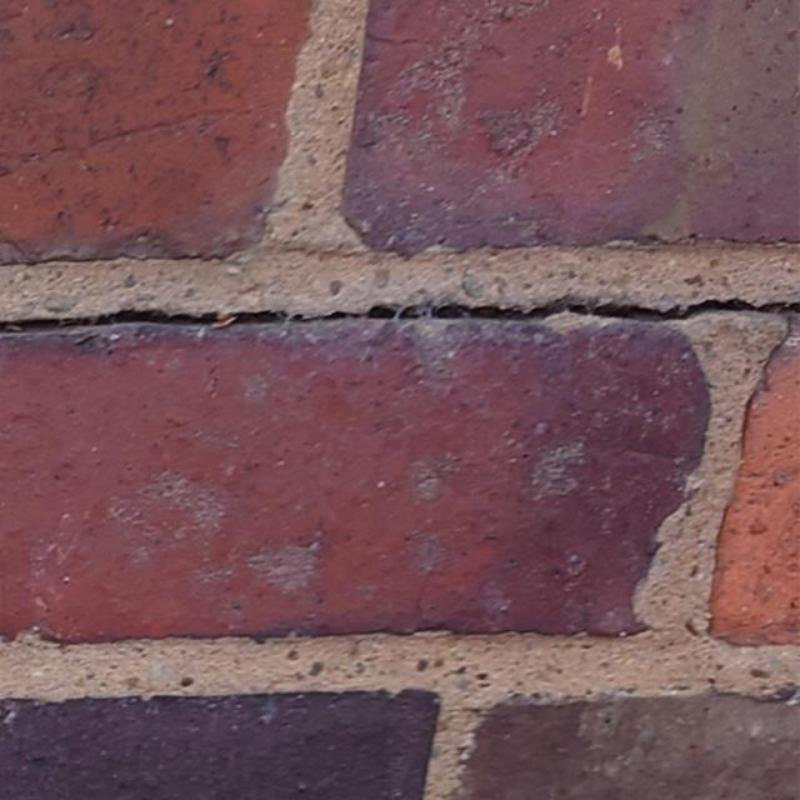crack: (1, 300, 800, 331)
